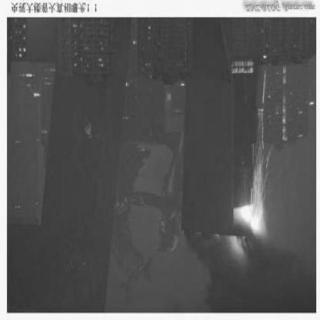Smoke: (200, 244, 306, 310)
